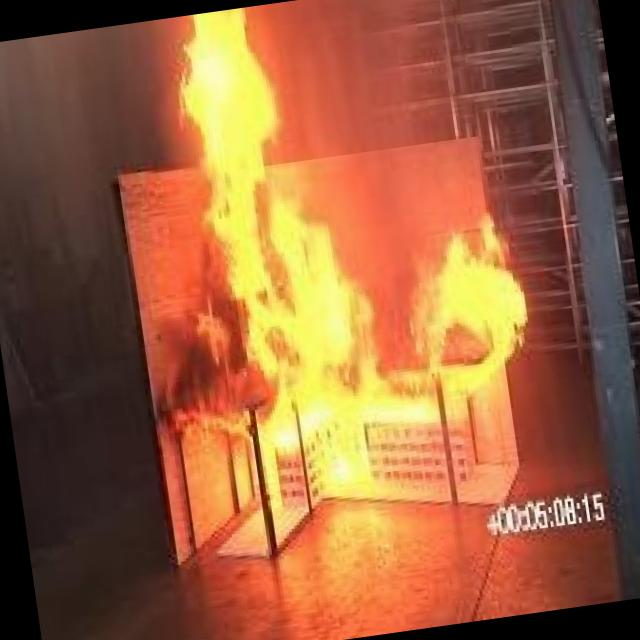fire: (104, 0, 554, 553)
